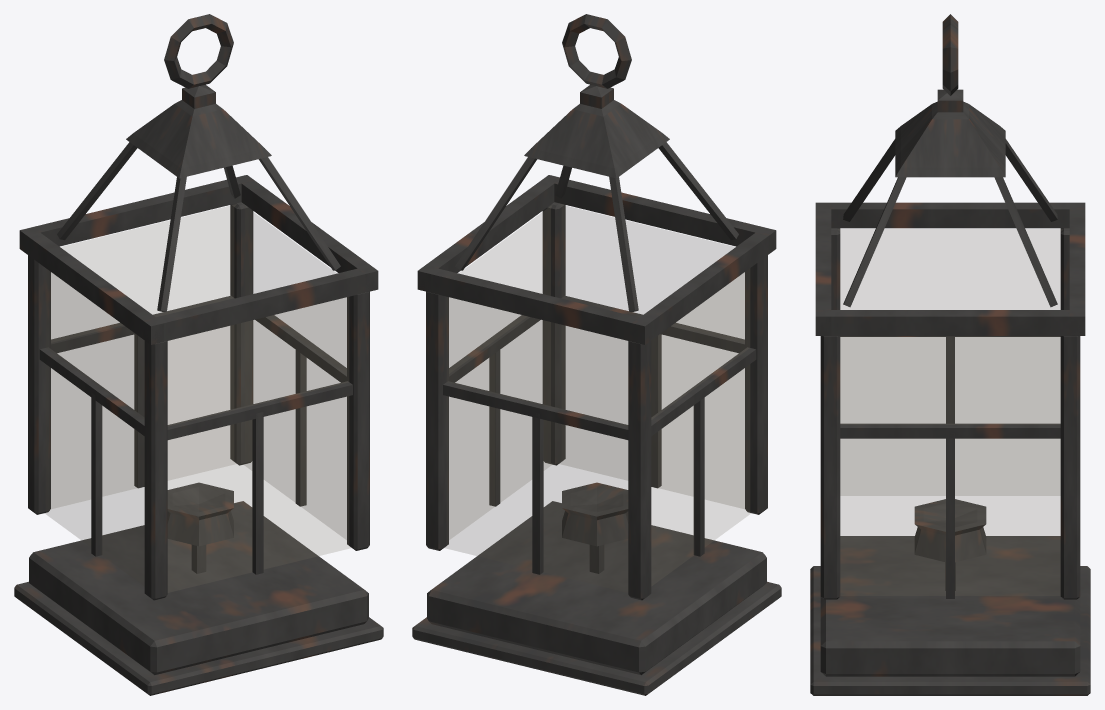
The model's file is ford_lamp.glb.
3 views of the same model, side by side, from view 1: azimuth 30°, elevation 25°; view 2: azimuth 150°, elevation 25°; view 3: azimuth 270°, elevation 25° (orthographic). The views are drawn at different scales.
Visible parts, largest first — view 1: ford_lamp; view 2: ford_lamp; view 3: ford_lamp.
Boxes of the visible parts, left/top/right/bottom form: ford_lamp: left=14, top=14, right=383, bottom=695; ford_lamp: left=412, top=14, right=781, bottom=695; ford_lamp: left=810, top=14, right=1090, bottom=695.
Size of what is drawn, in the model's own units: 0.4752 by 1.16 by 0.4752.
2 materials, 1 textured.
